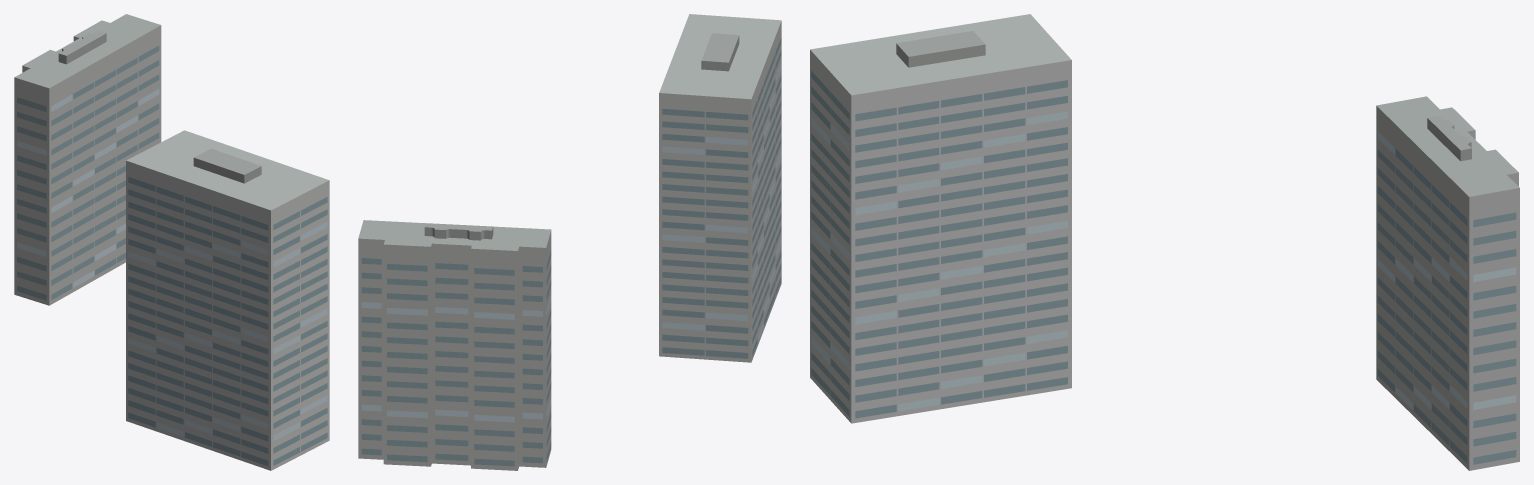
Rendered from apt-a10020294.glb.
3 renders of one model, left to right at view 1: azimuth 30°, elevation 25°; view 2: azimuth 150°, elevation 25°; view 3: azimuth 270°, elevation 25°, orthographic. The views are drawn at different scales.
Parts seen in each view (by area): view 1: apt-a10020294; view 2: apt-a10020294; view 3: apt-a10020294.
Part boxes in pixels (box(x1,y1,x2,y2)): apt-a10020294: box(14, 14, 329, 470); apt-a10020294: box(358, 14, 781, 470); apt-a10020294: box(810, 14, 1519, 470).
Size of the model in its own units: 61.08 by 75 by 142.
